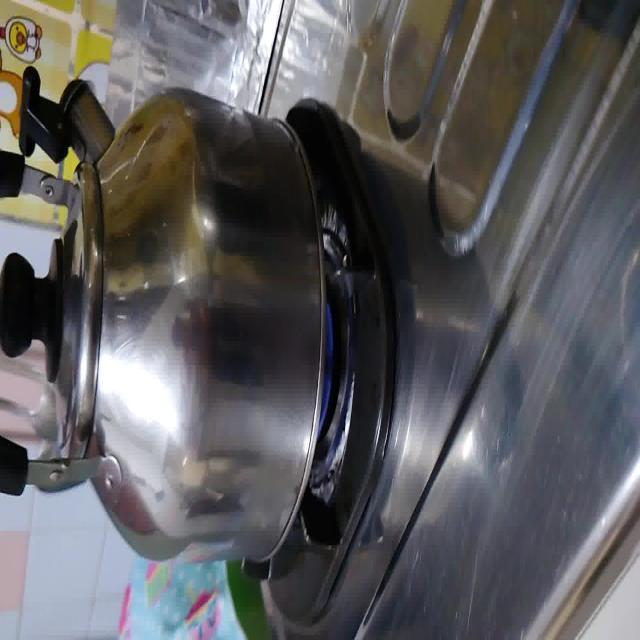Flame: (320, 300, 339, 432)
Pan: (9, 90, 316, 536)
